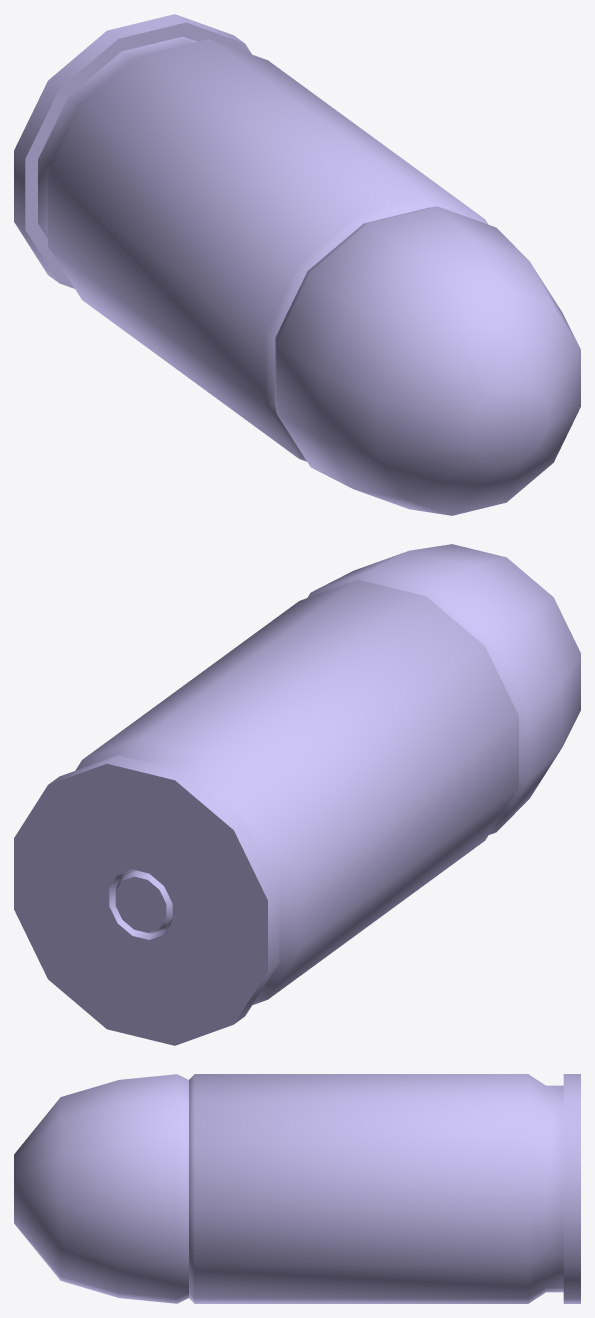
The model's file is grenades.fbx.
3 views of the same model, one above another, from view 1: azimuth 30°, elevation 25°; view 2: azimuth 150°, elevation 25°; view 3: azimuth 270°, elevation 25° (orthographic). The views are drawn at different scales.
Visible parts, largest first — view 1: grenade; view 2: grenade; view 3: grenade.
Part boxes in pixels (x1,y1,x2,y2): grenade: (14,14,580,515); grenade: (14,544,580,1045); grenade: (14,1074,580,1303).
Bounding box in the file's own units: 158 × 158 × 398.
